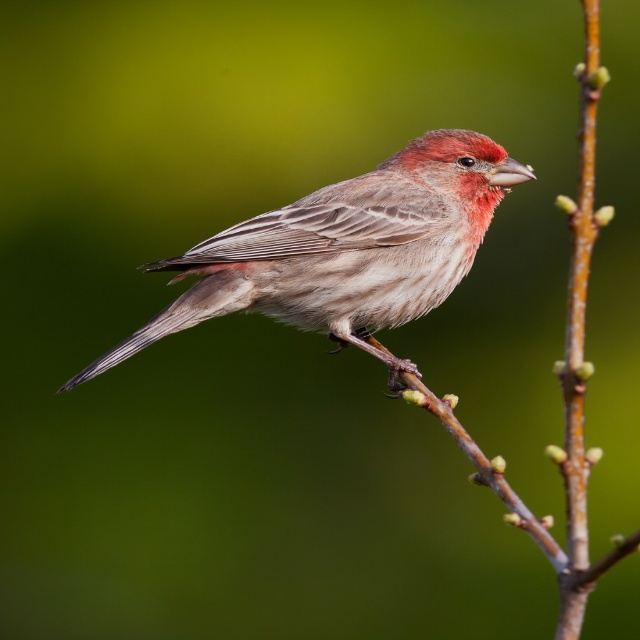Sparrow: (56, 127, 538, 398)
